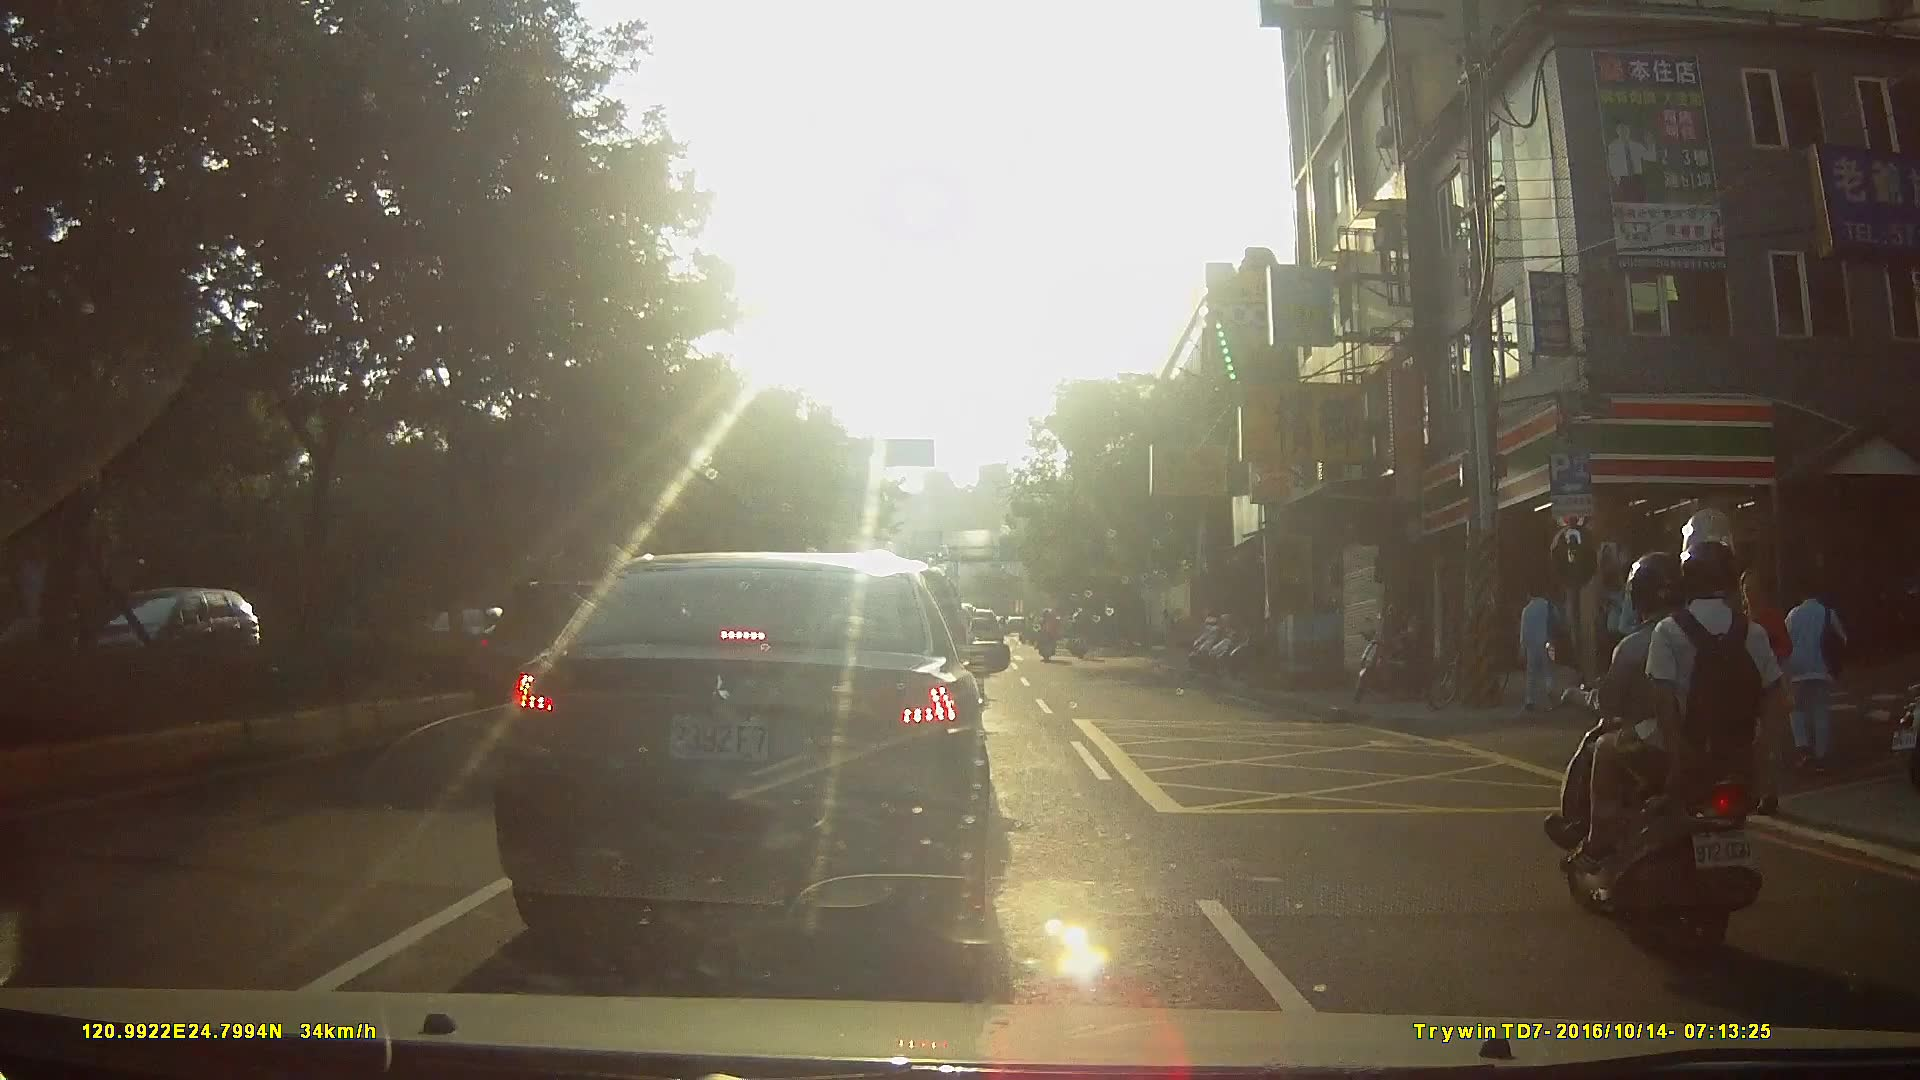pedestrian: (1720, 567, 1793, 813), (1520, 579, 1573, 715), (1600, 566, 1644, 688), (1669, 565, 1711, 677), (1597, 567, 1621, 695)
rider: (1543, 508, 1801, 958), (1038, 606, 1060, 665), (1067, 610, 1090, 662)
vehicle: (474, 537, 1043, 964), (83, 584, 270, 686)
